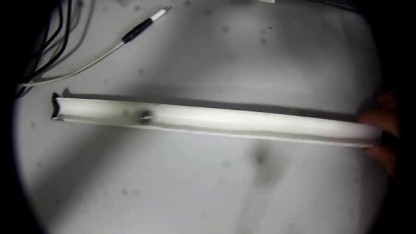gangzhu: (136, 109, 152, 125)
